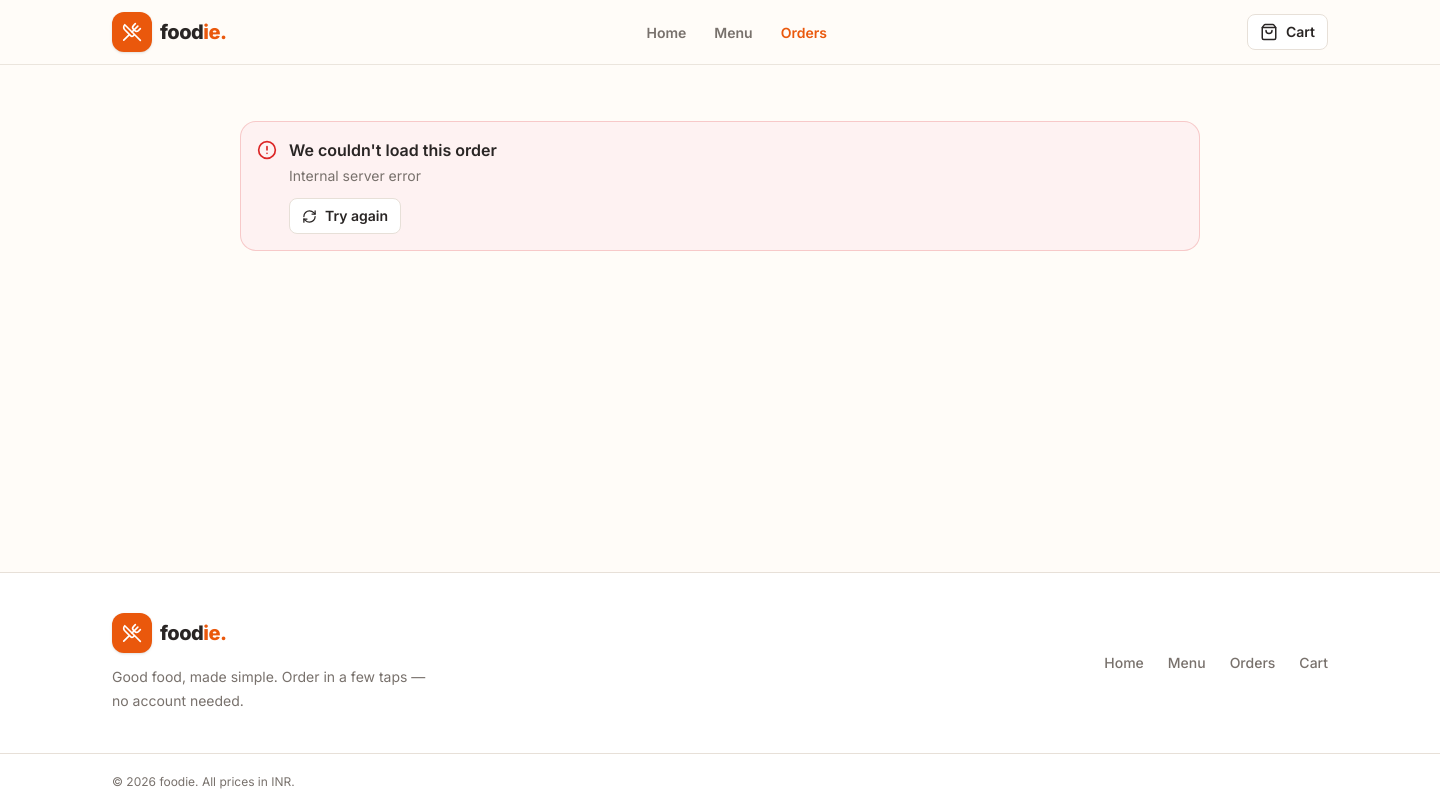
Test: Order tracking page › shows an error state with retry for server failures
The image size is (1440, 810).
Expected: the text "We couldn't load this order" is shown, [289, 140, 497, 160]
Click the button "Try again": coordinates (345, 216) [289, 198, 401, 234]
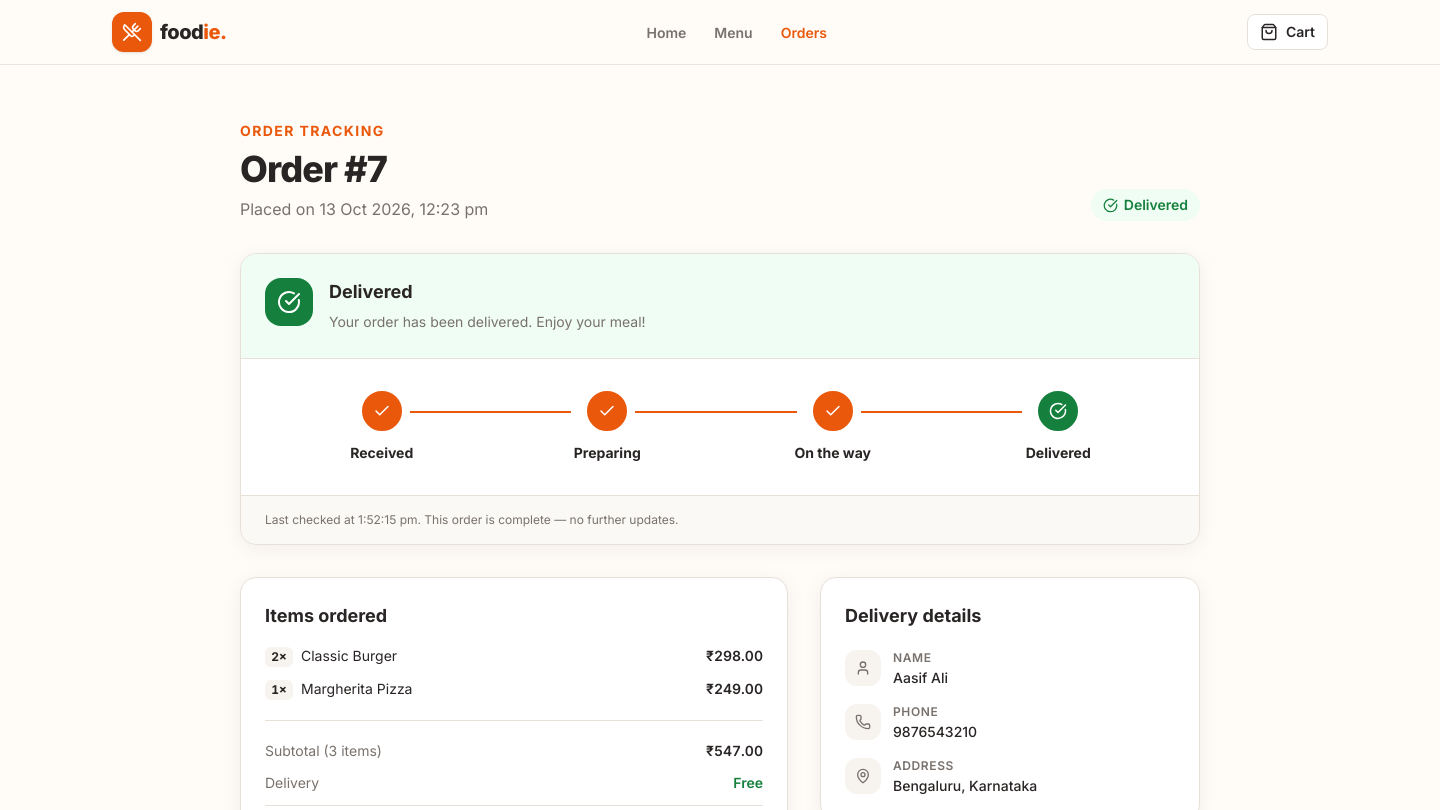
Result: the heading "Delivered" is shown at [329, 281, 413, 302]
